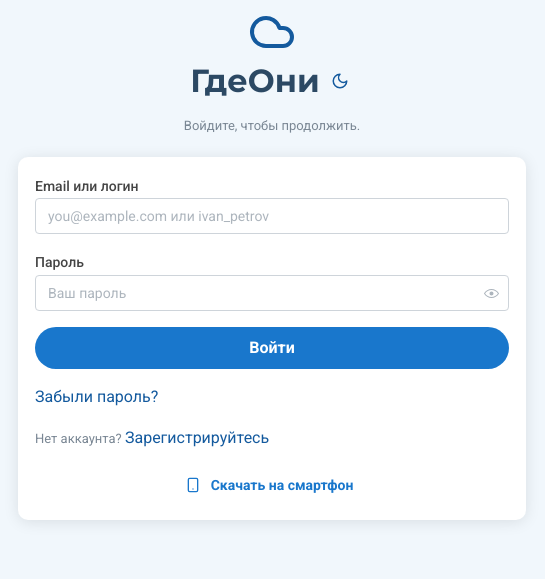
Test: LoginPage › shows friendly error text when login fails with ApiError
Type "user@example.com" into the field labelled "Email или логин" at [272, 216], box [35,198,509,234]
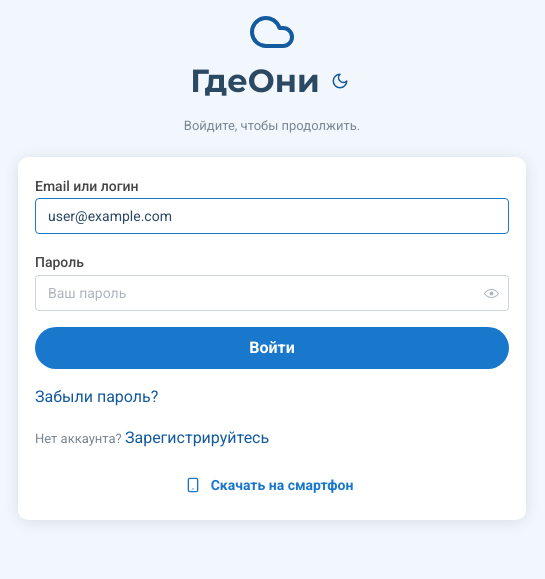
Type "wrongpass" into the password field labelled "Пароль" at [272, 293], box [36,276,508,310]
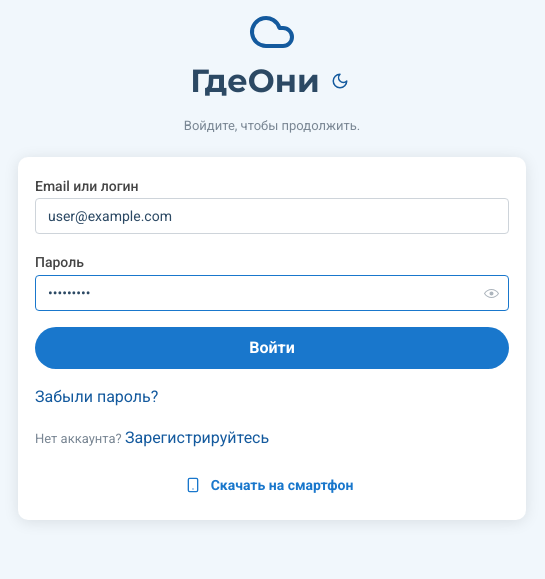
Click the button "Войти" at [272, 348], box [35,327,509,369]
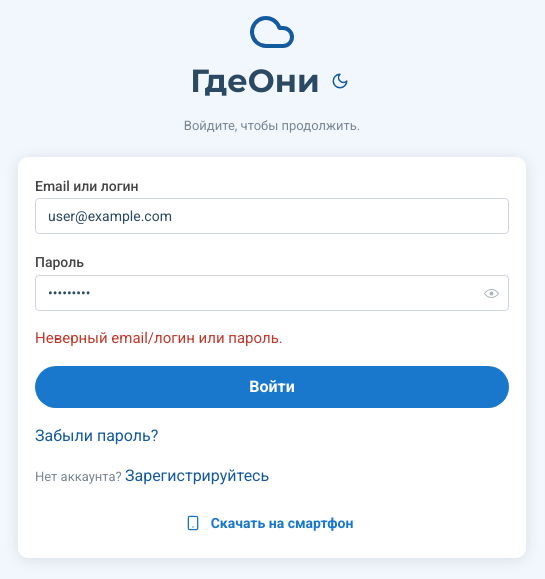
Check: the text "Неверный email/логин или пароль." is shown, box [35,329,283,347]
